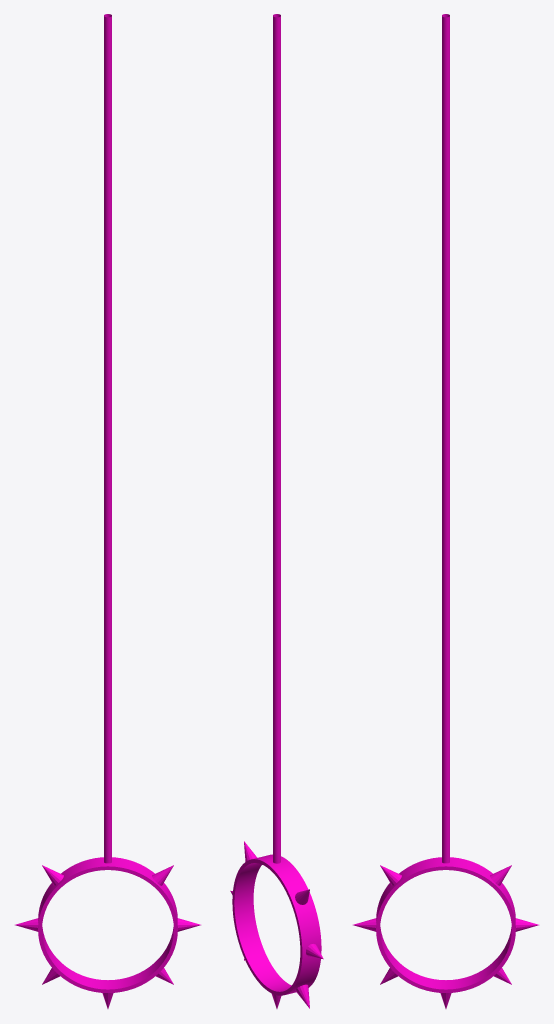
File: cutter5_circle.fbx
3 renders of one model, left to right at view 1: azimuth 90°, elevation 25°; view 2: azimuth 210°, elevation 25°; view 3: azimuth 270°, elevation 25°, orthographic.
Visible parts, largest first — view 1: Cutter5_Circle; view 2: Cutter5_Circle; view 3: Cutter5_Circle.
Boxes of the visible parts, x1,y1,x2,y2 form: Cutter5_Circle: [15, 14, 200, 1008]; Cutter5_Circle: [230, 14, 323, 1008]; Cutter5_Circle: [353, 14, 538, 1008].
Size of the model in its own units: 16.84 by 832 by 142.
